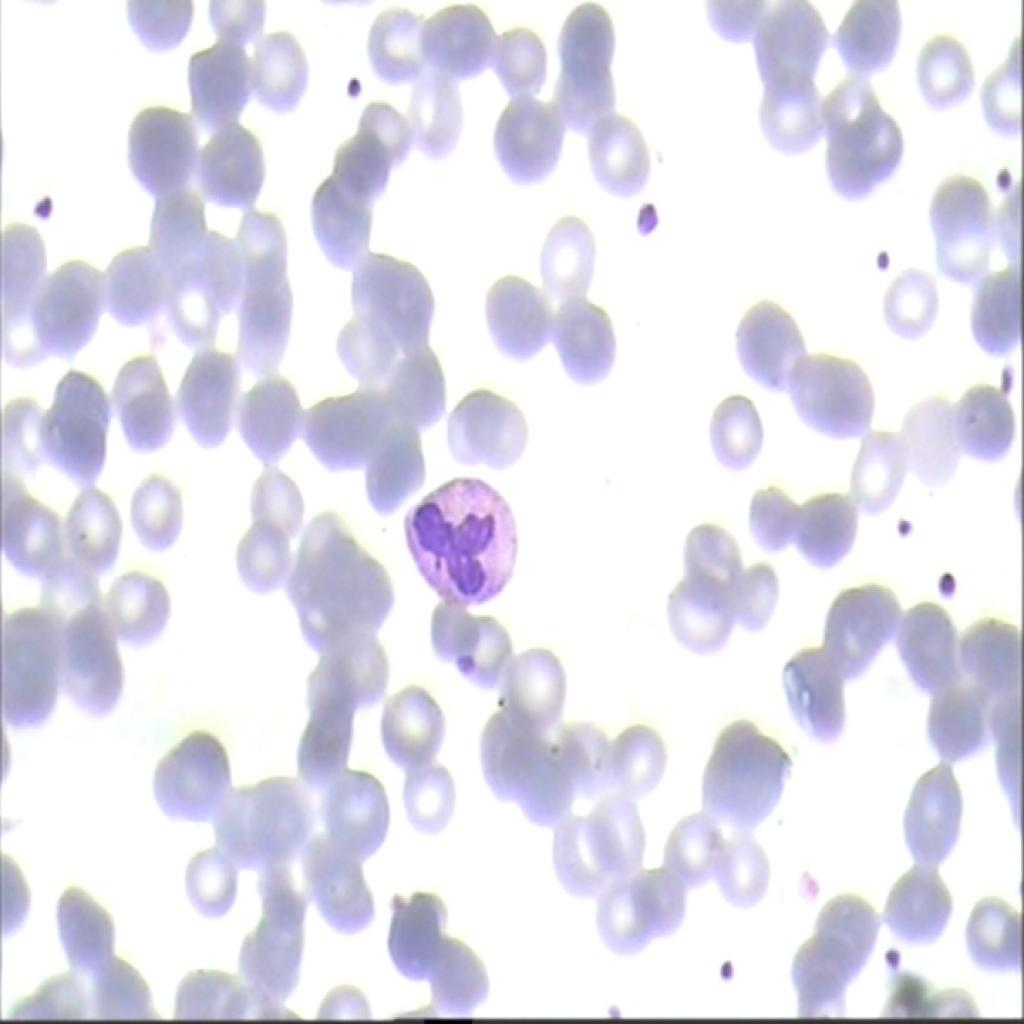Neutrofil: (395, 471, 519, 617)
Platelet: (614, 190, 670, 256), (21, 182, 74, 236), (341, 59, 391, 112), (883, 501, 920, 555), (862, 231, 892, 281), (988, 151, 1020, 197), (934, 564, 966, 608), (996, 352, 1020, 404), (452, 640, 474, 686), (878, 946, 900, 978), (713, 953, 731, 987)
